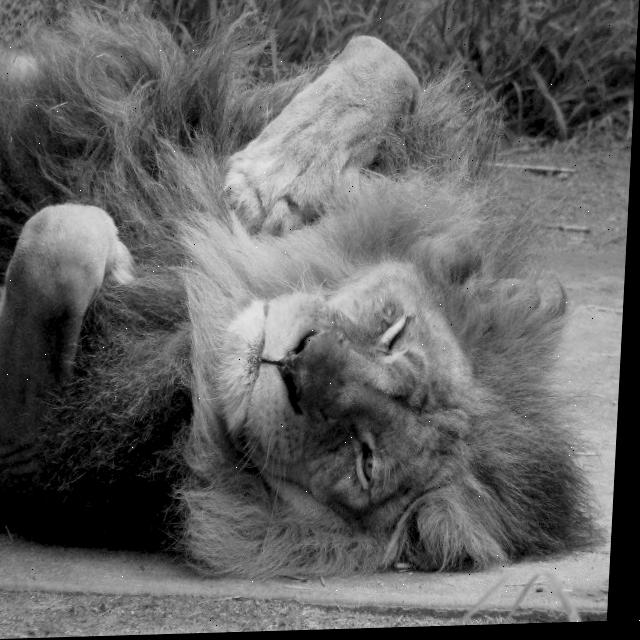Lion: (154, 87, 533, 603)
